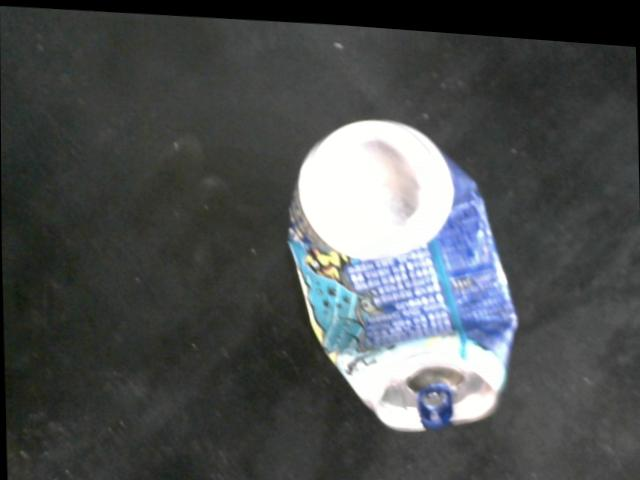can: (281, 112, 517, 423)
